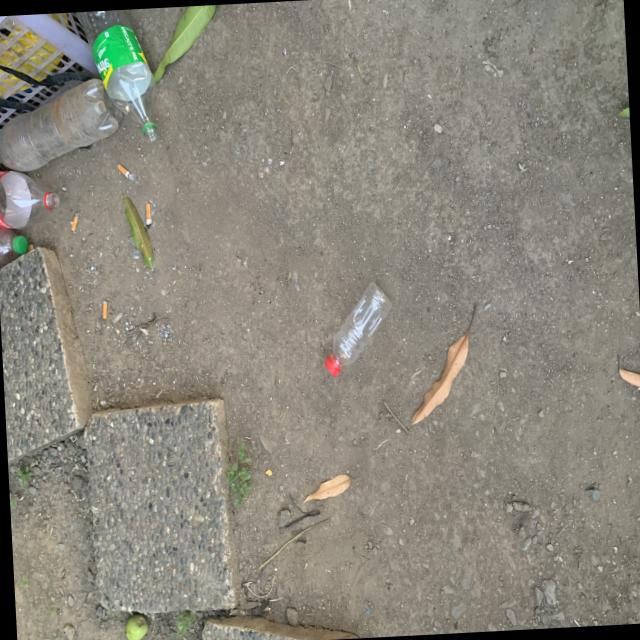Bottle: (324, 282, 391, 377)
